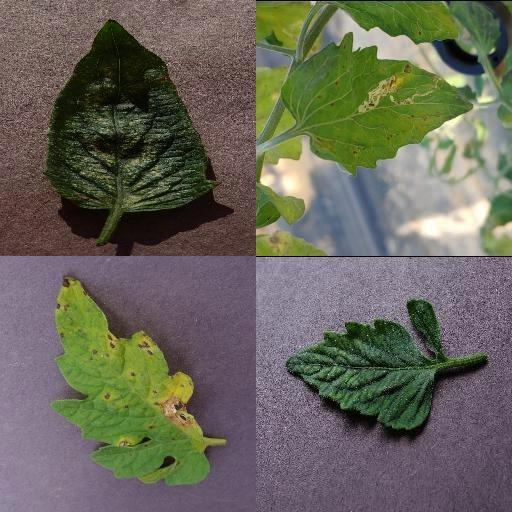Leaf Miner: (280, 30, 474, 178)
Mosaic Virus: (284, 299, 443, 432)
Septoria: (49, 273, 213, 487)
Spider Mites: (46, 19, 216, 213)
